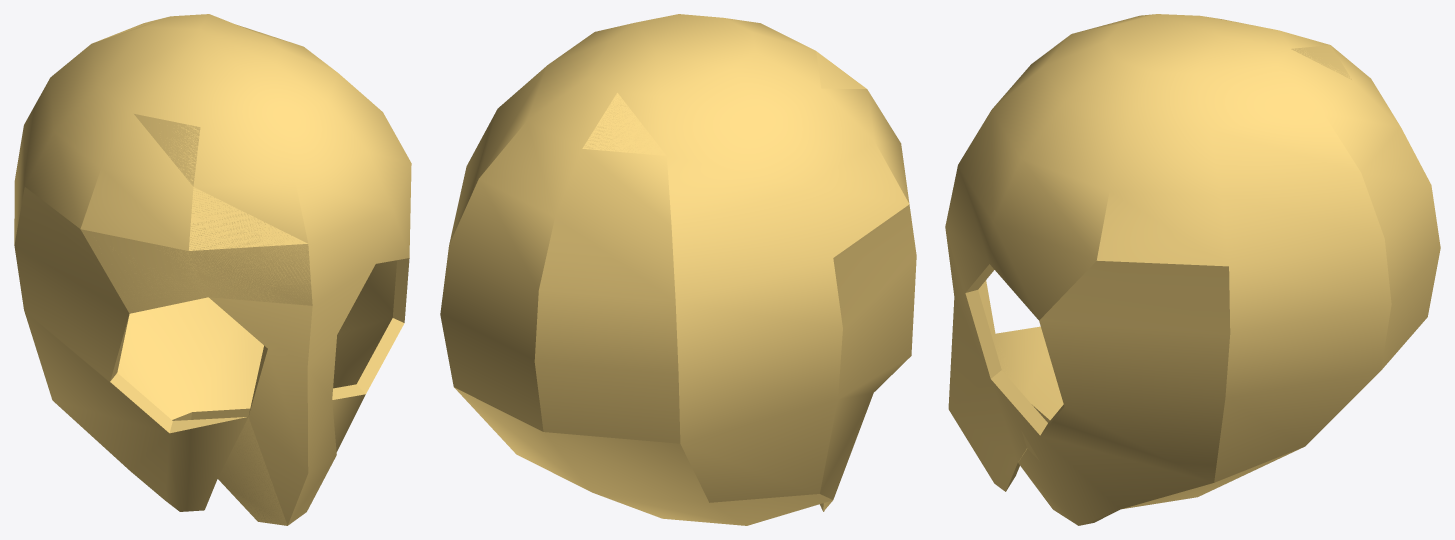
File: skull.fbx
3 views of the same model, side by side, from view 1: azimuth 30°, elevation 25°; view 2: azimuth 150°, elevation 25°; view 3: azimuth 270°, elevation 25° (orthographic). The views are drawn at different scales.
Parts seen in each view (by area): view 1: SKULL.001; view 2: SKULL.001; view 3: SKULL.001.
Part boxes in pixels (x1,y1,x2,y2): SKULL.001: [14, 14, 411, 525]; SKULL.001: [440, 14, 916, 525]; SKULL.001: [945, 14, 1440, 525].
Bounding box in the file's own units: 180 × 214 × 209.
